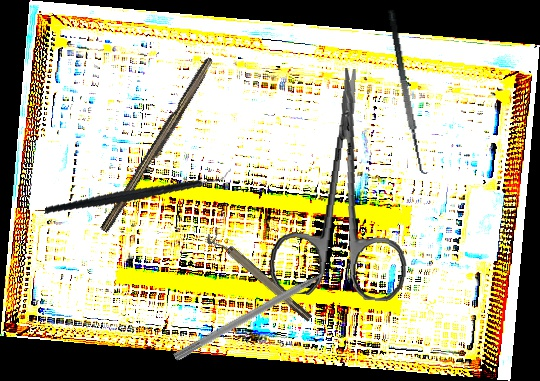Chopper: (44, 135, 232, 245)
Fixation Ring: (203, 226, 315, 328)
Iris Scissors: (266, 62, 425, 304)
Pusher: (172, 259, 347, 364)
Scalpel Handle: (99, 54, 218, 237)
Spatula Surgical: (386, 7, 435, 176)
